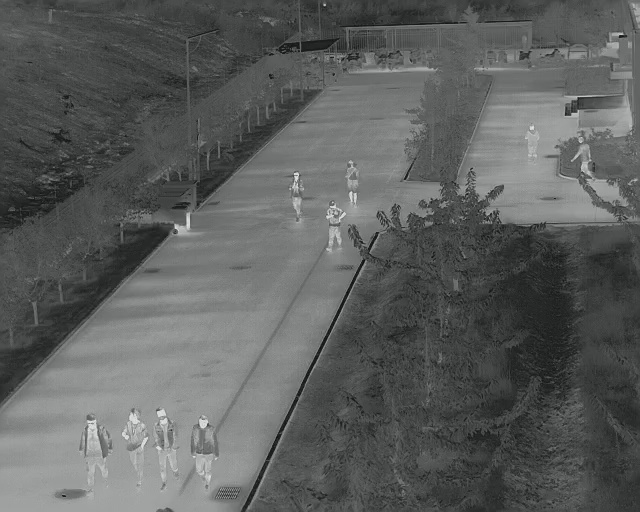person: (77, 410, 114, 498), (118, 405, 149, 489), (152, 406, 181, 494), (188, 413, 219, 493), (568, 133, 599, 176), (323, 200, 346, 255), (288, 169, 305, 222), (343, 158, 360, 208), (522, 122, 540, 165)
